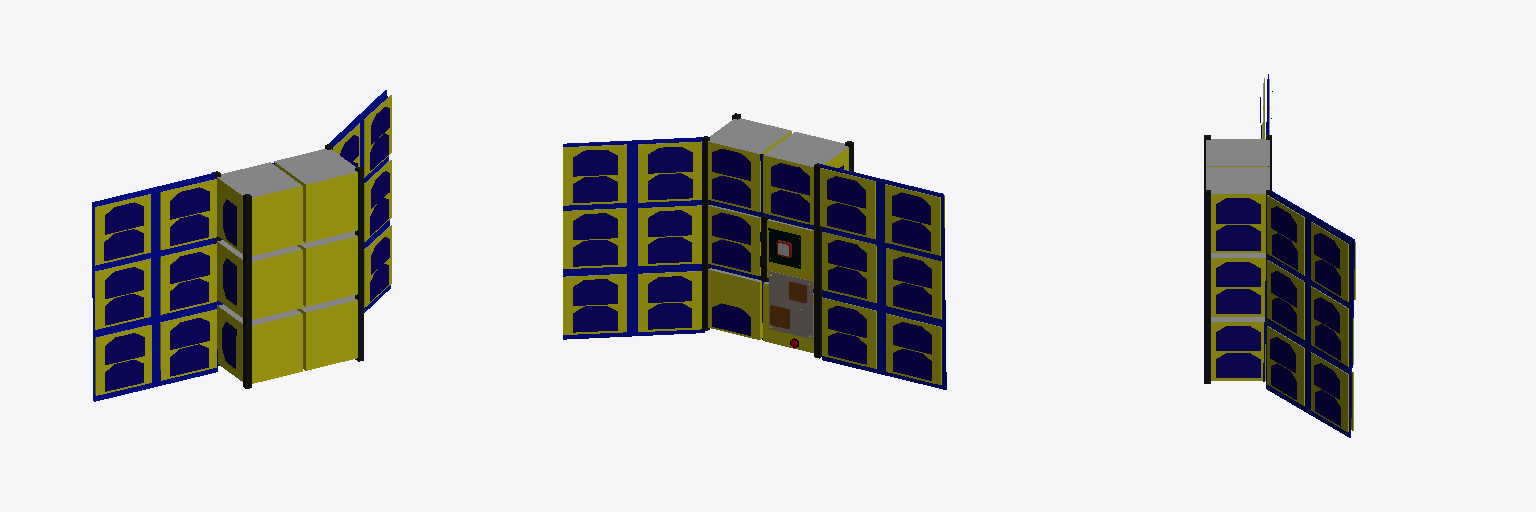
Rendered from sateliotsat2.obj.
3 views of the same model, side by side, from view 1: azimuth 30°, elevation 25°; view 2: azimuth 150°, elevation 25°; view 3: azimuth 270°, elevation 25° (orthographic).
Visible parts, largest first — view 1: CubeSat.001, CubeSat.004, Cube.001_Cube.014, CubeSat, CubeSat.002, CubeSat.003, CubeSat.005, CubeSat.014_CubeSat.020, CubeSat.013_CubeSat.019, CubeSat.016_CubeSat.022, CubeSat.012_CubeSat.018, CubeSat.015_CubeSat.021 (+23 smaller); view 2: Cube.001_Cube.002, Cube.001_Cube.014, CubeSat.001, CubeSat.004, CubeSat.005, PCL_101_23_DUAL_2_Mod_[number redacted], CubeSat.018_CubeSat.024, CubeSat.020_CubeSat.026, CubeSat.019_CubeSat.025, CubeSat.023_CubeSat.029, CubeSat.022_CubeSat.028, CubeSat.021_CubeSat.027 (+28 smaller); view 3: Cube.001_Cube.002, CubeSat.004, CubeSat.001, CubeSat.003, CubeSat.005, SolarPanel.032, SolarPanel.033, SolarPanel.040, SolarPanel.041, SolarPanel.024, SolarPanel.025, CubeSat.027_CubeSat.033 (+17 smaller).
Boxes of the visible parts, x1=… form: CubeSat.001: x1=217, y1=162, x2=302, y2=255; CubeSat.004: x1=274, y1=149, x2=357, y2=242; Cube.001_Cube.014: x1=92, y1=173, x2=217, y2=401; CubeSat: x1=217, y1=240, x2=302, y2=319; CubeSat.002: x1=217, y1=304, x2=302, y2=383; CubeSat.003: x1=297, y1=231, x2=357, y2=306; CubeSat.005: x1=297, y1=295, x2=357, y2=370; CubeSat.014_CubeSat.020: x1=160, y1=243, x2=216, y2=314; CubeSat.013_CubeSat.019: x1=95, y1=325, x2=151, y2=395; CubeSat.016_CubeSat.022: x1=160, y1=179, x2=216, y2=249; CubeSat.012_CubeSat.018: x1=160, y1=309, x2=216, y2=380; CubeSat.015_CubeSat.021: x1=95, y1=258, x2=150, y2=329; Cube.001_Cube.002: x1=563, y1=137, x2=704, y2=339; Cube.001_Cube.014: x1=820, y1=164, x2=946, y2=389; CubeSat.001: x1=763, y1=132, x2=848, y2=224; CubeSat.004: x1=708, y1=118, x2=791, y2=211; CubeSat.005: x1=708, y1=268, x2=762, y2=339; PCL_101_23_DUAL_2_Mod_[number redacted]: x1=769, y1=271, x2=813, y2=338; CubeSat.018_CubeSat.024: x1=638, y1=271, x2=701, y2=331; CubeSat.020_CubeSat.026: x1=638, y1=205, x2=701, y2=265; CubeSat.019_CubeSat.025: x1=563, y1=274, x2=626, y2=334; CubeSat.023_CubeSat.029: x1=563, y1=144, x2=626, y2=205; CubeSat.022_CubeSat.028: x1=638, y1=141, x2=701, y2=202; CubeSat.021_CubeSat.027: x1=563, y1=208, x2=626, y2=268; Cube.001_Cube.002: x1=1266, y1=191, x2=1354, y2=437; CubeSat.004: x1=1206, y1=167, x2=1269, y2=252; CubeSat.001: x1=1206, y1=139, x2=1269, y2=166; CubeSat.003: x1=1211, y1=253, x2=1265, y2=316; CubeSat.005: x1=1211, y1=317, x2=1265, y2=380; SolarPanel.032: x1=1216, y1=198, x2=1260, y2=223; SolarPanel.033: x1=1216, y1=225, x2=1260, y2=250; SolarPanel.040: x1=1216, y1=326, x2=1260, y2=350; SolarPanel.041: x1=1216, y1=353, x2=1260, y2=377; SolarPanel.024: x1=1216, y1=262, x2=1260, y2=286; SolarPanel.025: x1=1216, y1=289, x2=1260, y2=313; CubeSat.027_CubeSat.033: x1=1267, y1=260, x2=1304, y2=339.
Size of the model in its own units: 0.6128 by 0.3406 by 0.2363.